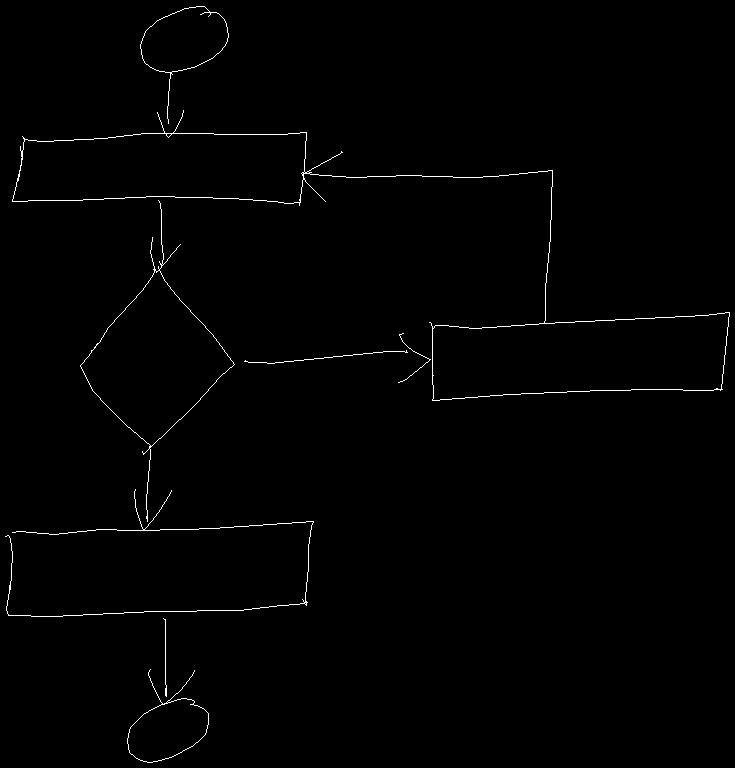arrow: (301, 151, 552, 322), (244, 333, 430, 382), (148, 618, 194, 704), (134, 447, 171, 529), (150, 200, 180, 272), (157, 72, 183, 137)
connection: (140, 6, 228, 72), (127, 698, 208, 762)
decision: (80, 266, 234, 454)
process: (5, 521, 313, 616), (429, 312, 729, 400), (12, 132, 306, 205)
